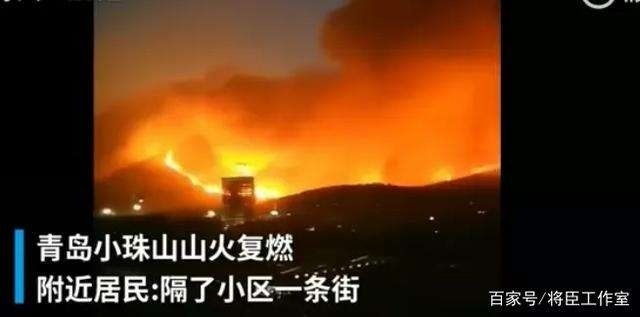fire: (159, 146, 220, 195), (355, 163, 388, 185), (425, 163, 455, 184)
